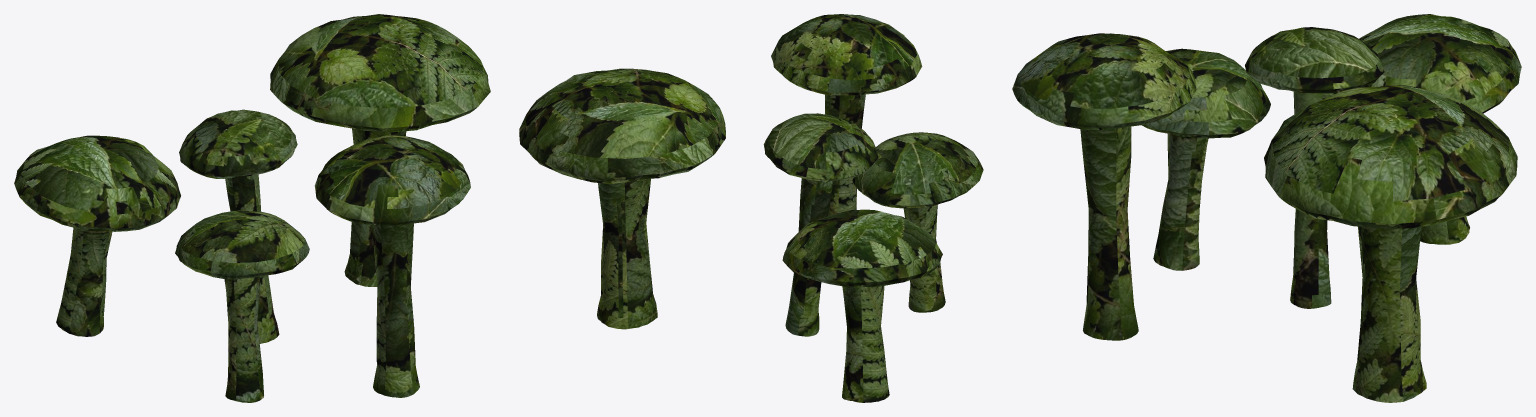
File: wild-mushrooms-v01.glb
The picture shows the model from 3 angles, left to right: view 1: azimuth 30°, elevation 25°; view 2: azimuth 150°, elevation 25°; view 3: azimuth 270°, elevation 25°; orthographic projection. The views are drawn at different scales.
Parts seen in each view (by area): view 1: wild-mushrooms; view 2: wild-mushrooms; view 3: wild-mushrooms.
Part boxes in pixels (x1=…): wild-mushrooms: x1=14, y1=14, x2=490, y2=402; wild-mushrooms: x1=519, y1=14, x2=983, y2=402; wild-mushrooms: x1=1012, y1=14, x2=1521, y2=402.
Size of the model in its own units: 0.8791 by 0.4776 by 0.7669.
1 material, 1 textured.
